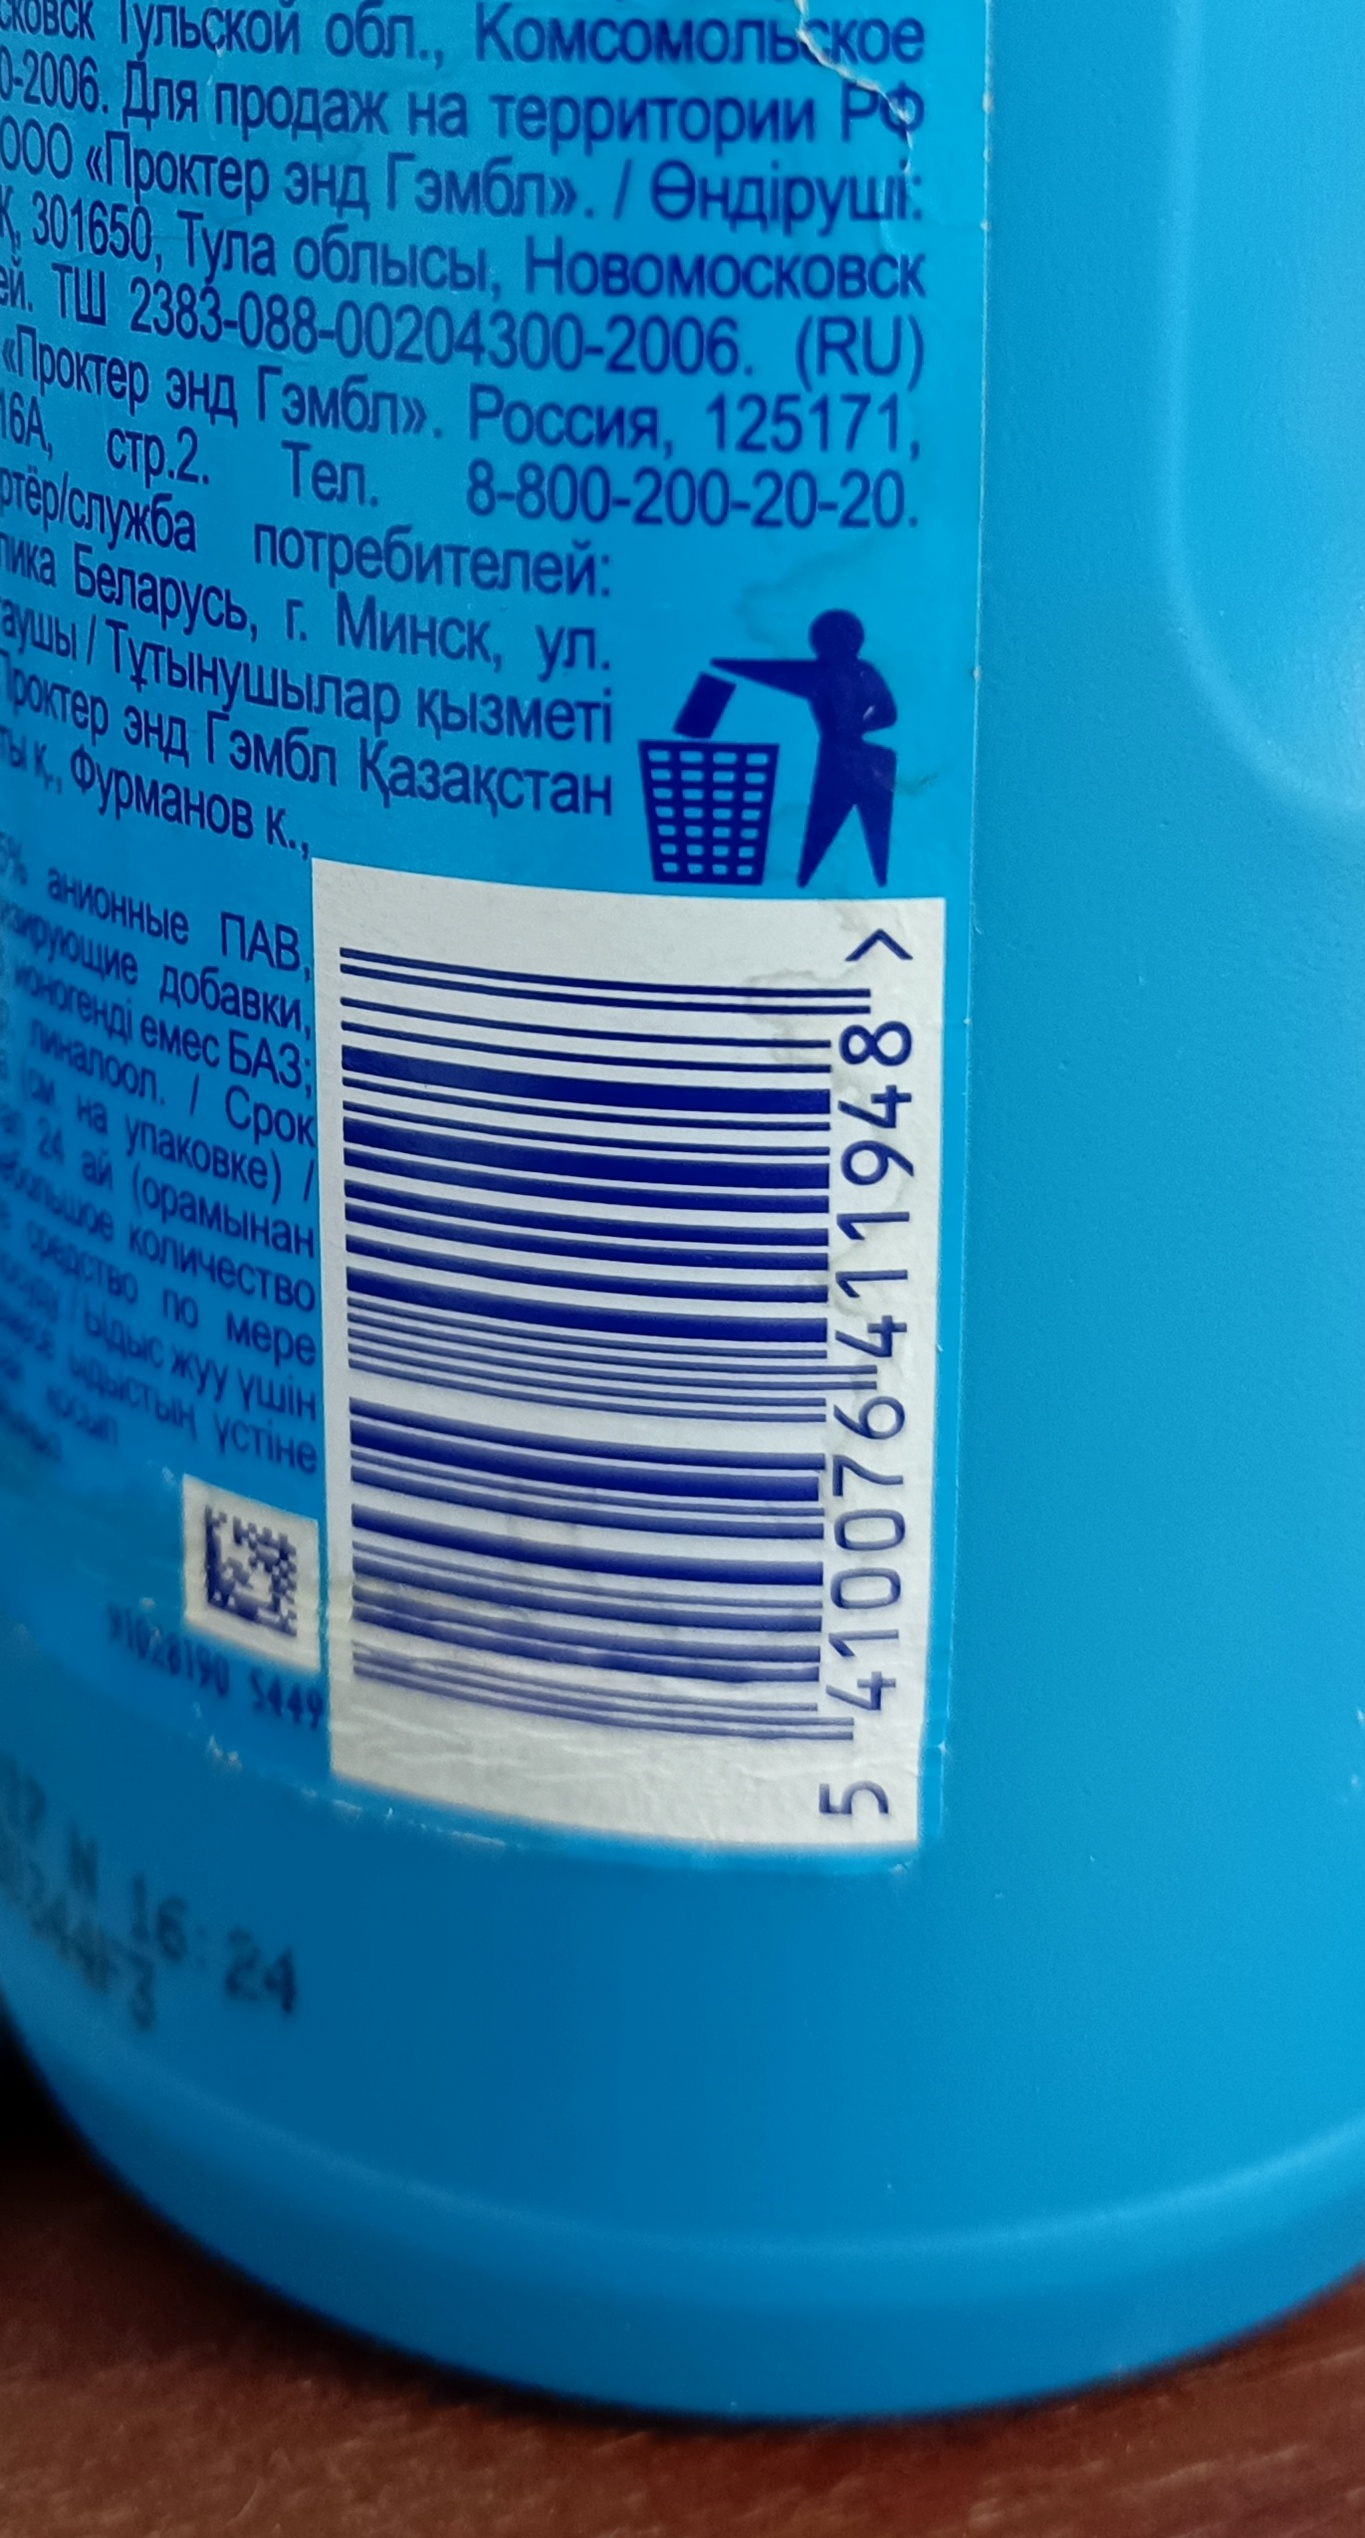1d: (336, 936, 830, 1740)
